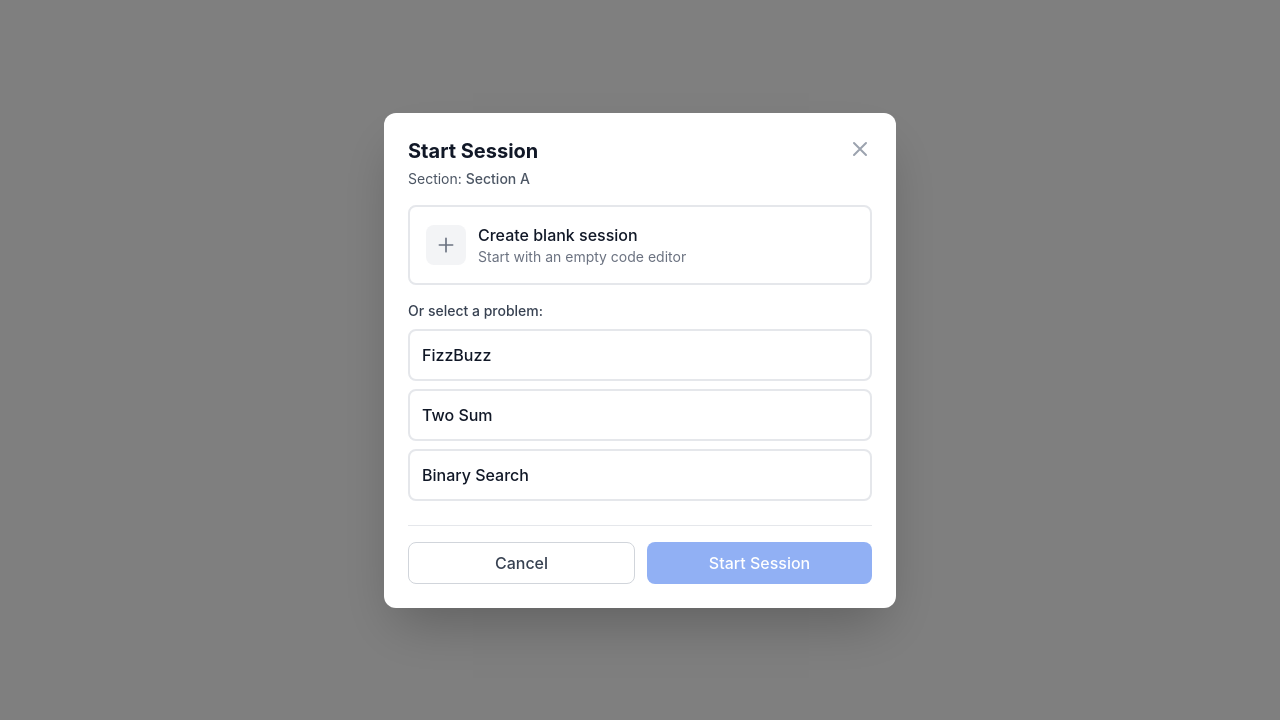
Scenario: StartSessionModal › Publish UX › shows publish info box when selected problem is not published to section
Check: the text "FizzBuzz" is shown, box [422, 344, 491, 364]
Click the button "FizzBuzz" at (457, 354), box [408, 328, 872, 380]
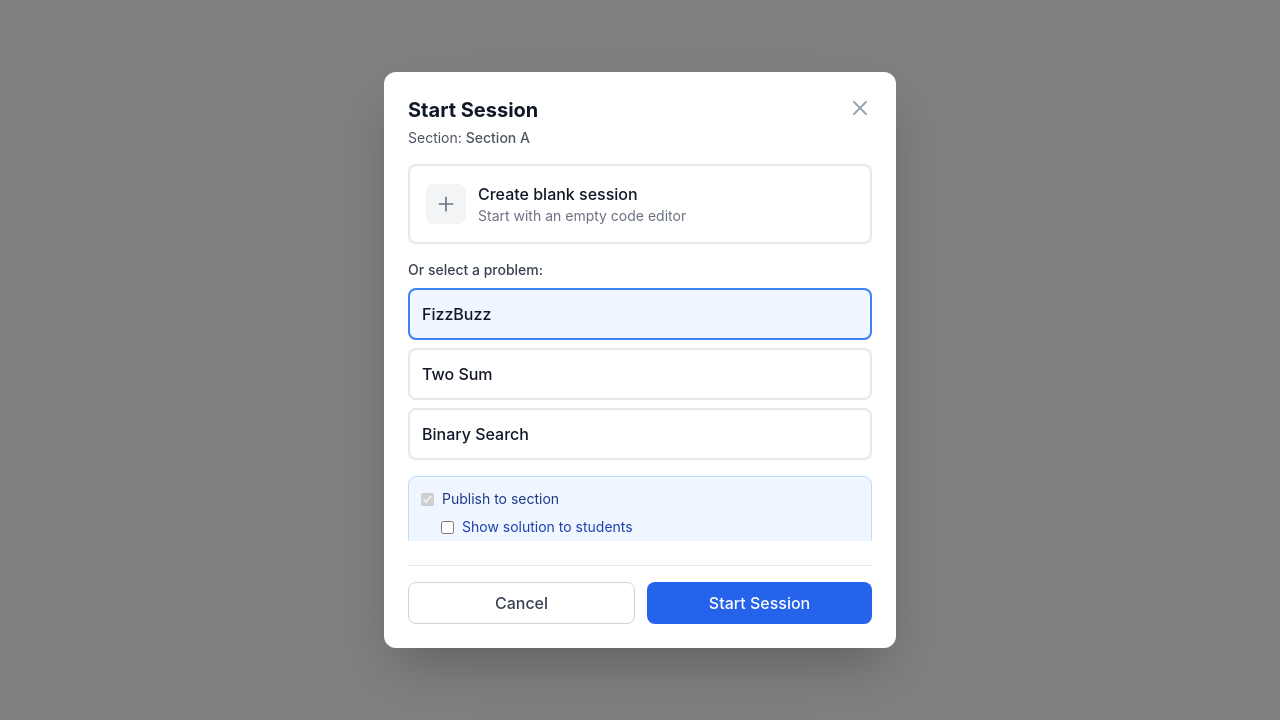
Check: the text "Publish to section" is shown, box [442, 489, 559, 509]
